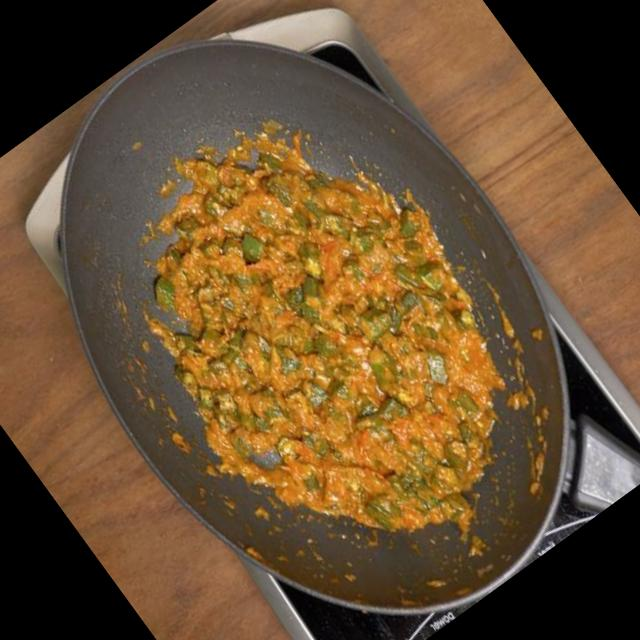BhindiMasala: (56, 57, 597, 634)
